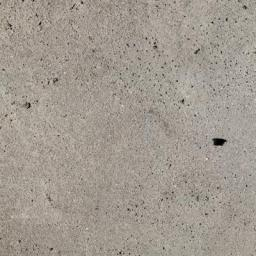FOD: (208, 137, 232, 151)
